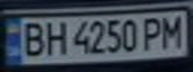0: (118, 16, 142, 53)
2: (87, 18, 109, 55)
4: (69, 18, 90, 55)
5: (106, 17, 124, 54)
B: (15, 19, 48, 58)
H: (39, 18, 69, 56)
M: (157, 14, 187, 50)
P: (139, 15, 169, 52)
